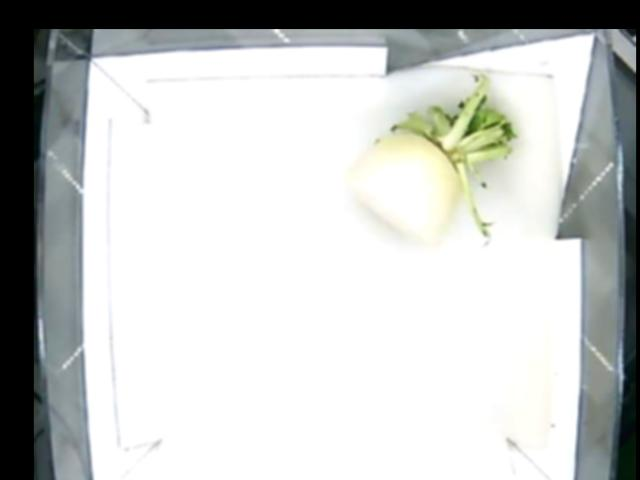Mooli: (346, 70, 513, 246)
